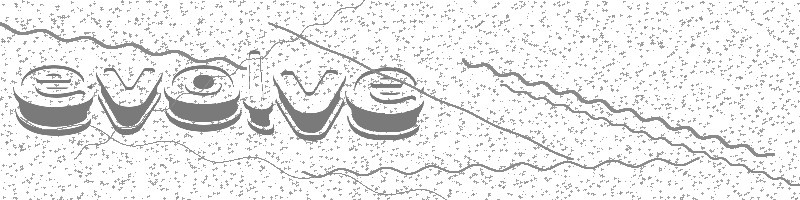e: (9, 61, 96, 136), (345, 63, 424, 142)
l: (241, 47, 278, 140)
o: (162, 64, 242, 134)
v: (272, 65, 345, 144), (93, 63, 161, 138)
